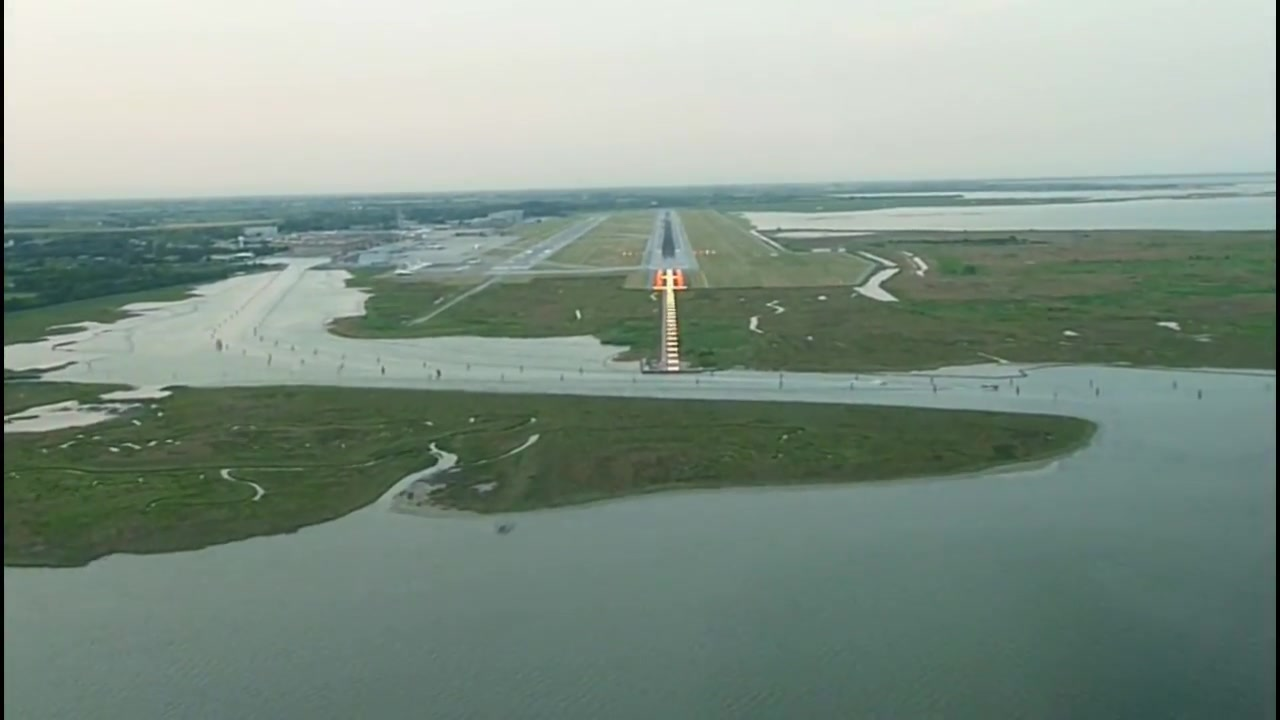runway: (493, 211, 609, 271), (648, 207, 690, 268)
